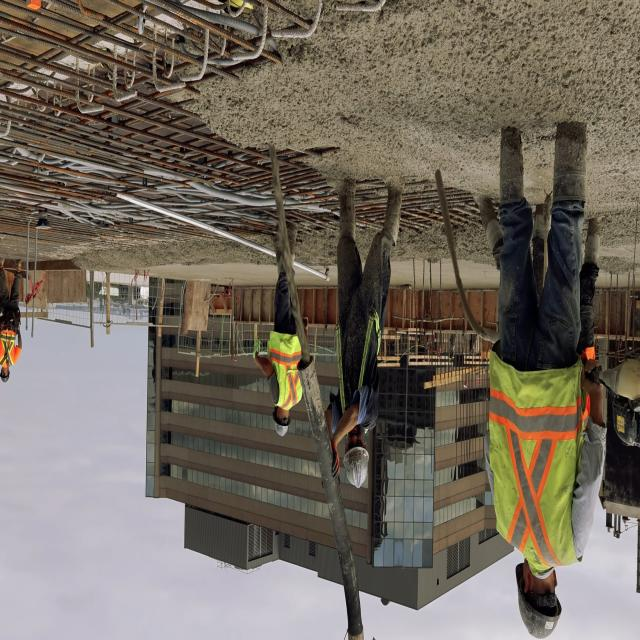Boots: (548, 117, 591, 218), (494, 126, 524, 211), (378, 173, 404, 242), (335, 170, 358, 247)
Helmet: (517, 592, 561, 640), (344, 446, 369, 489), (272, 417, 291, 437)
Vest: (493, 342, 593, 572), (268, 331, 303, 411), (0, 328, 21, 368)
